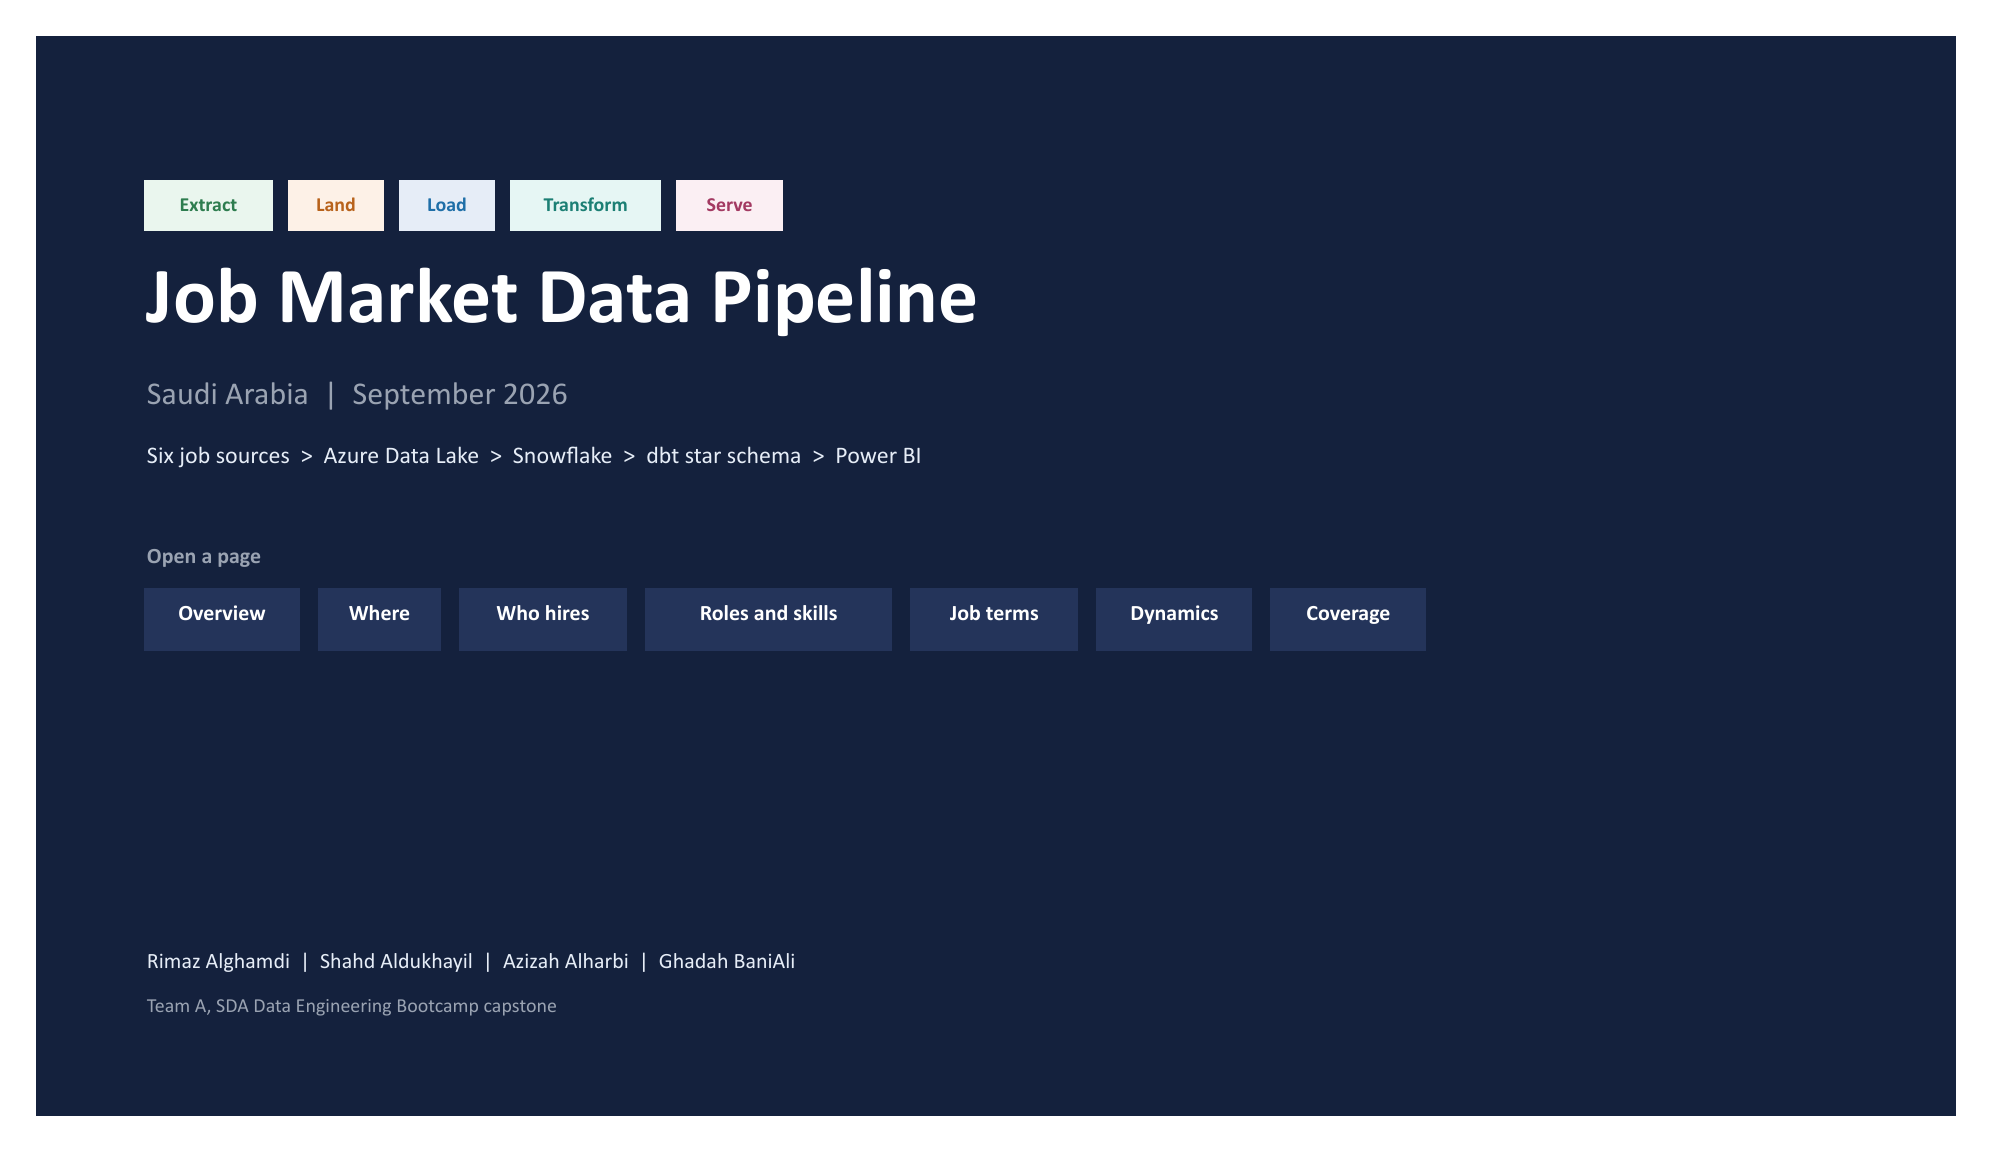

What the dashboard file says about the page in this screenshot:
{"tool":"powerbi","page":{"name":"Cover","canvas":[1280,720],"ordinal":0},"visuals":[{"type":"textbox","box":[0,0,1280,720],"z":100},{"type":"textbox","box":[72,96,86,34],"z":1100},{"type":"textbox","box":[168,96,64,34],"z":1200},{"type":"textbox","box":[242,96,64,34],"z":1300},{"type":"textbox","box":[316,96,101,34],"z":1400},{"type":"textbox","box":[427,96,71,34],"z":1500},{"type":"textbox","box":[66,132,1000,100],"z":1600},{"type":"textbox","box":[66,218,1000,46],"z":1700},{"type":"textbox","box":[66,262,1100,42],"z":1800},{"type":"textbox","box":[66,330,600,36],"z":1900},{"type":"textbox","box":[72,368,104,42],"z":2000},{"type":"actionButton","box":[72,368,104,42],"z":2100},{"type":"textbox","box":[188,368,82,42],"z":2200},{"type":"actionButton","box":[188,368,82,42],"z":2300},{"type":"textbox","box":[282,368,112,42],"z":2400},{"type":"actionButton","box":[282,368,112,42],"z":2500},{"type":"textbox","box":[406,368,165,42],"z":2600},{"type":"actionButton","box":[406,368,165,42],"z":2700},{"type":"textbox","box":[583,368,112,42],"z":2800},{"type":"actionButton","box":[583,368,112,42],"z":2900},{"type":"textbox","box":[707,368,104,42],"z":3000},{"type":"actionButton","box":[707,368,104,42],"z":3100},{"type":"textbox","box":[823,368,104,42],"z":3200},{"type":"actionButton","box":[823,368,104,42],"z":3300},{"type":"textbox","box":[66,600,1100,38],"z":3400},{"type":"textbox","box":[66,630,1100,36],"z":3500}]}

Visuals, with their boxes in screenshot pixels (x1, y1, x2, y2), scaled from the page's 1280x720 canvas onto the 1992x1152 screenshot:
textbox: detection(0, 0, 1991, 1151)
textbox: detection(112, 154, 246, 208)
textbox: detection(261, 154, 361, 208)
textbox: detection(377, 154, 476, 208)
textbox: detection(492, 154, 649, 208)
textbox: detection(665, 154, 775, 208)
textbox: detection(103, 211, 1659, 371)
textbox: detection(103, 349, 1659, 422)
textbox: detection(103, 419, 1815, 486)
textbox: detection(103, 528, 1036, 586)
textbox: detection(112, 589, 274, 656)
actionButton: detection(112, 589, 274, 656)
textbox: detection(293, 589, 420, 656)
actionButton: detection(293, 589, 420, 656)
textbox: detection(439, 589, 613, 656)
actionButton: detection(439, 589, 613, 656)
textbox: detection(632, 589, 889, 656)
actionButton: detection(632, 589, 889, 656)
textbox: detection(907, 589, 1082, 656)
actionButton: detection(907, 589, 1082, 656)
textbox: detection(1100, 589, 1262, 656)
actionButton: detection(1100, 589, 1262, 656)
textbox: detection(1281, 589, 1443, 656)
actionButton: detection(1281, 589, 1443, 656)
textbox: detection(103, 960, 1815, 1021)
textbox: detection(103, 1008, 1815, 1066)
